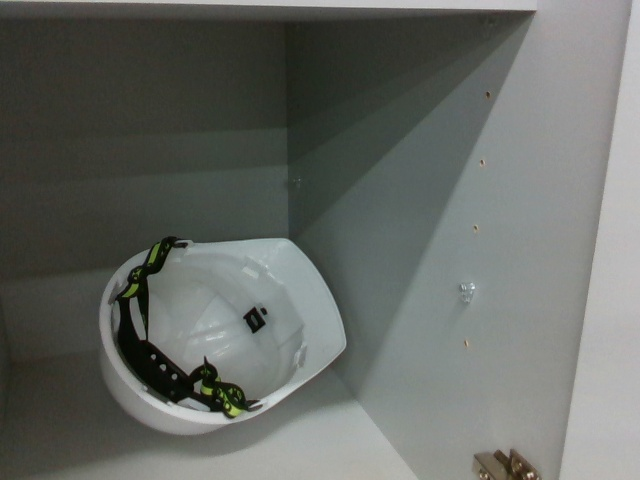helmet: (83, 235, 350, 438)
